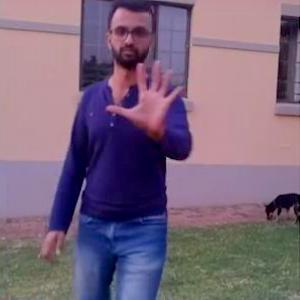follow_hand: (106, 54, 187, 134)
